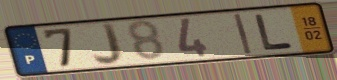4: (175, 16, 210, 59)
7: (42, 26, 77, 69)
8: (125, 19, 171, 64)
I: (231, 12, 255, 56)
J: (91, 22, 126, 68)
L: (252, 12, 297, 52)
